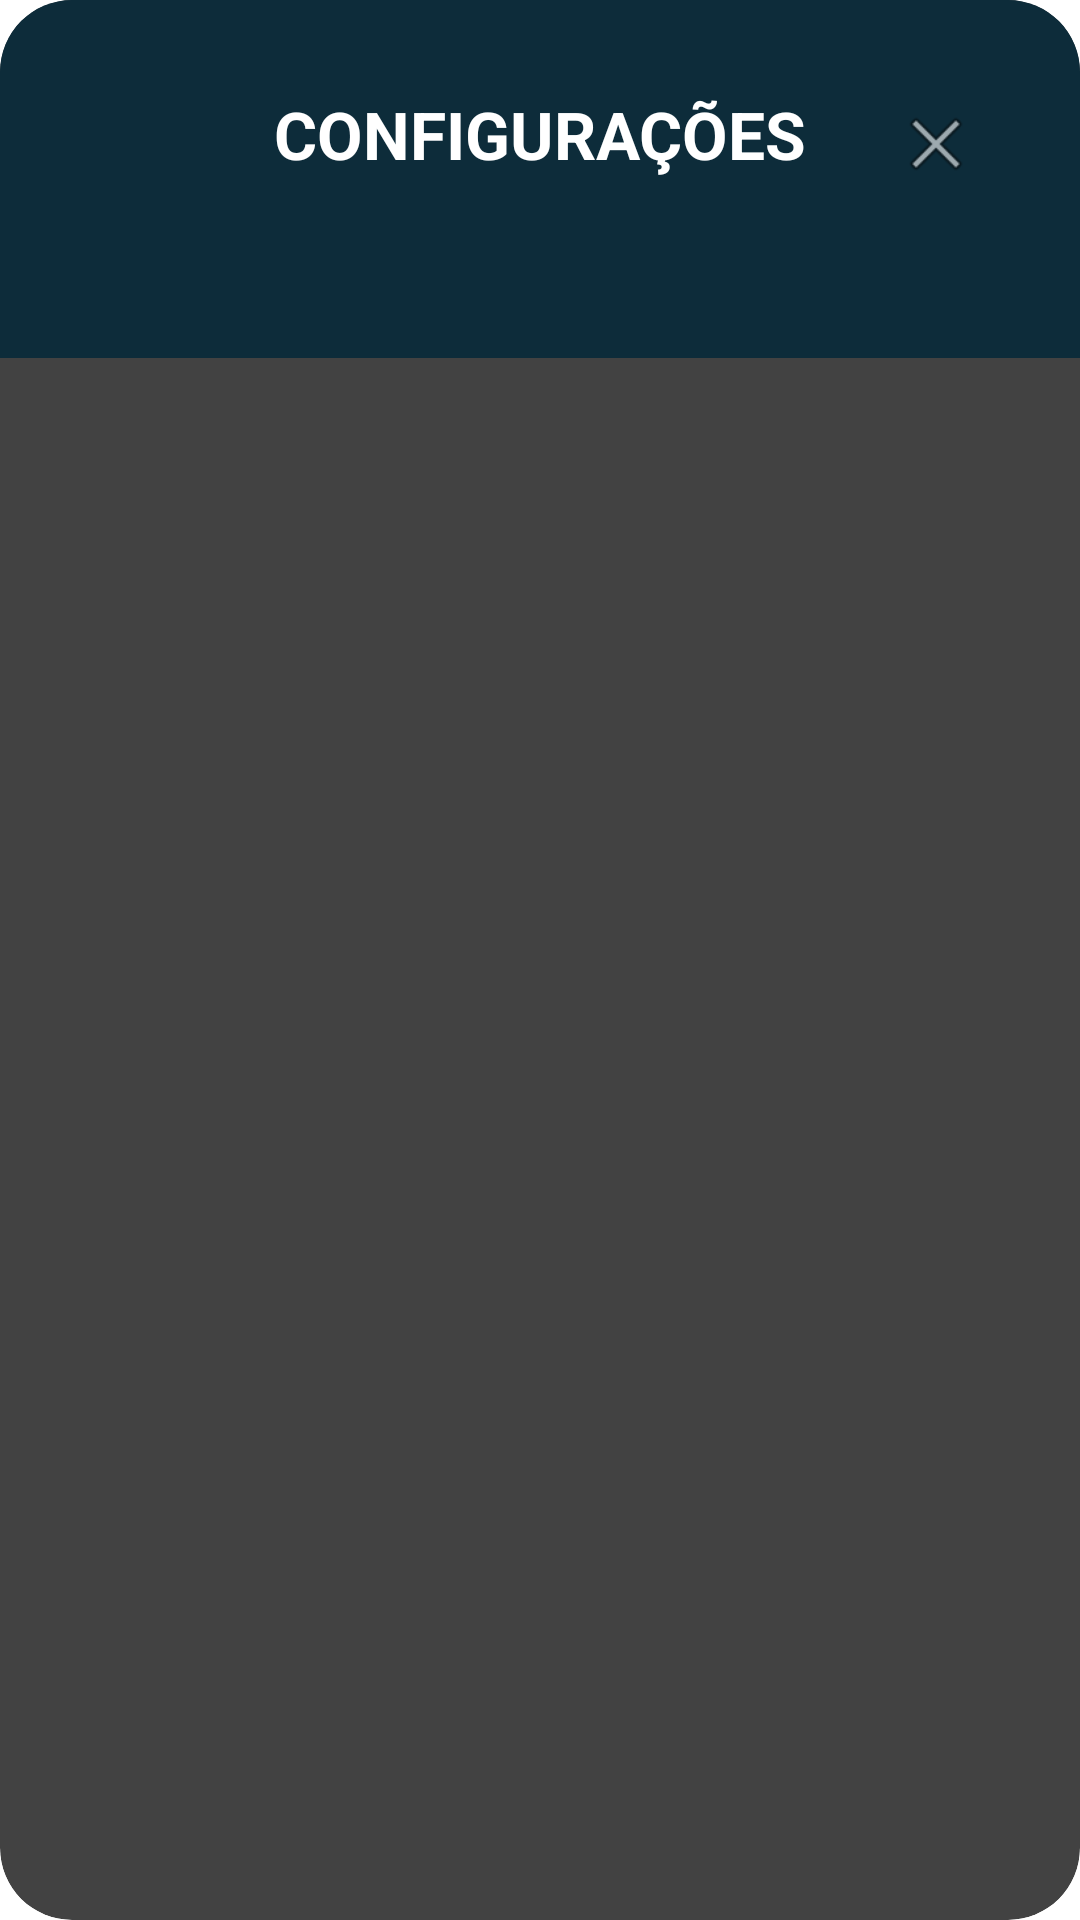

Where icons sit on this 1080w x 1920h app screen, as bbox=[x1, y1, x2, y2]:
Fechar: bbox=[911, 119, 961, 169]
